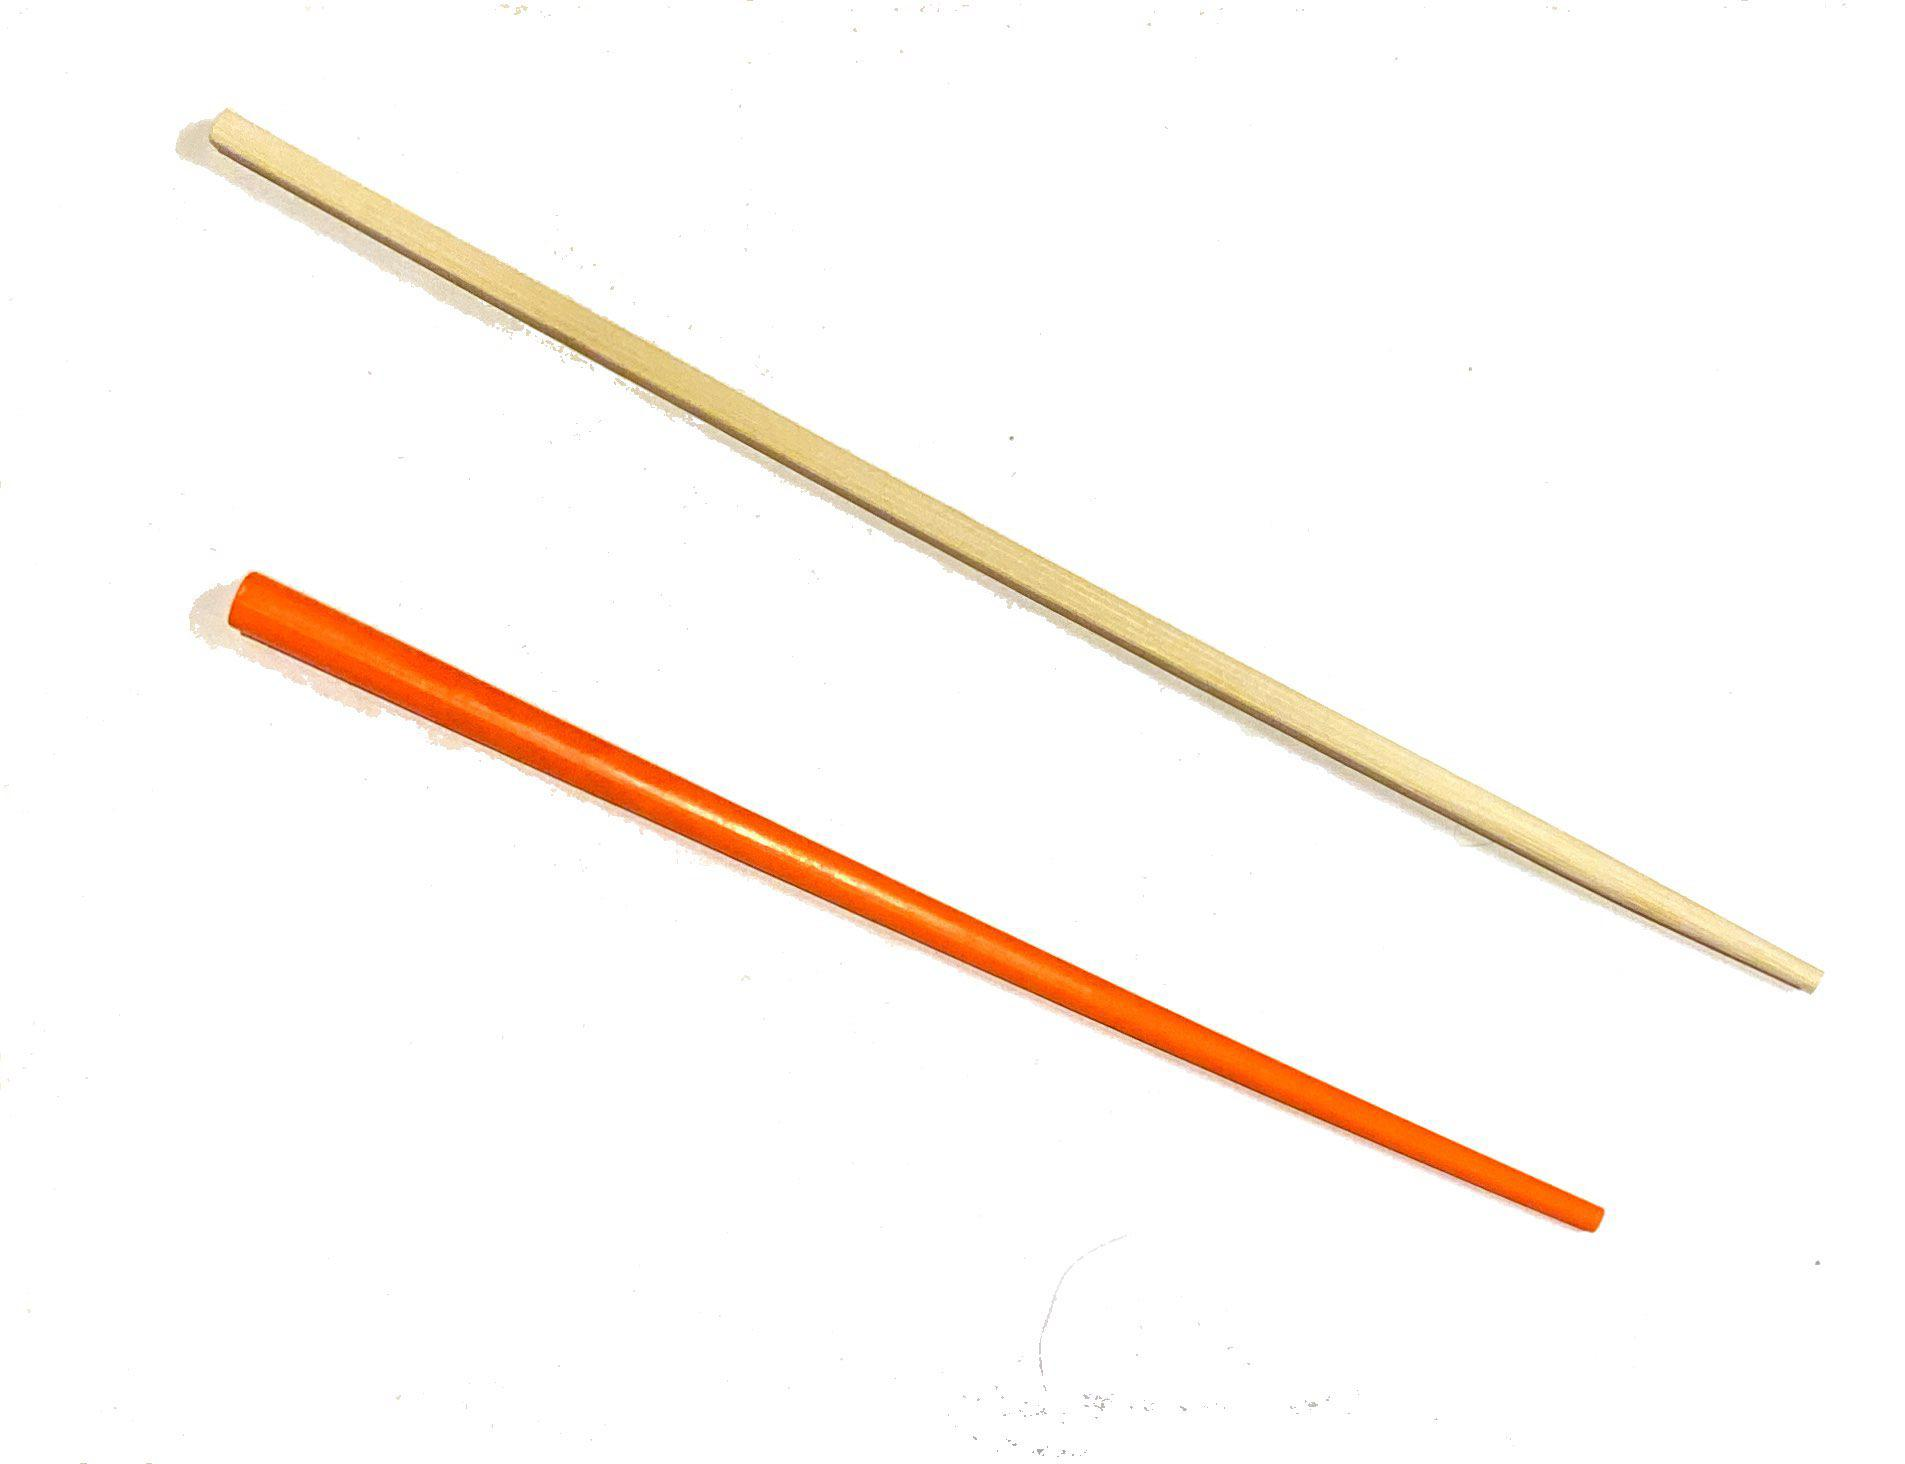Chopstick: (191, 35, 1870, 1033), (224, 521, 1657, 1432)
